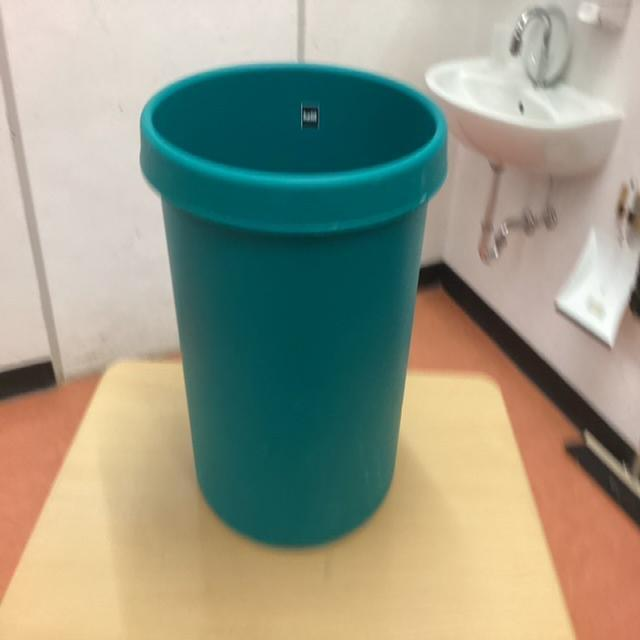garbage container: (128, 31, 457, 573)
